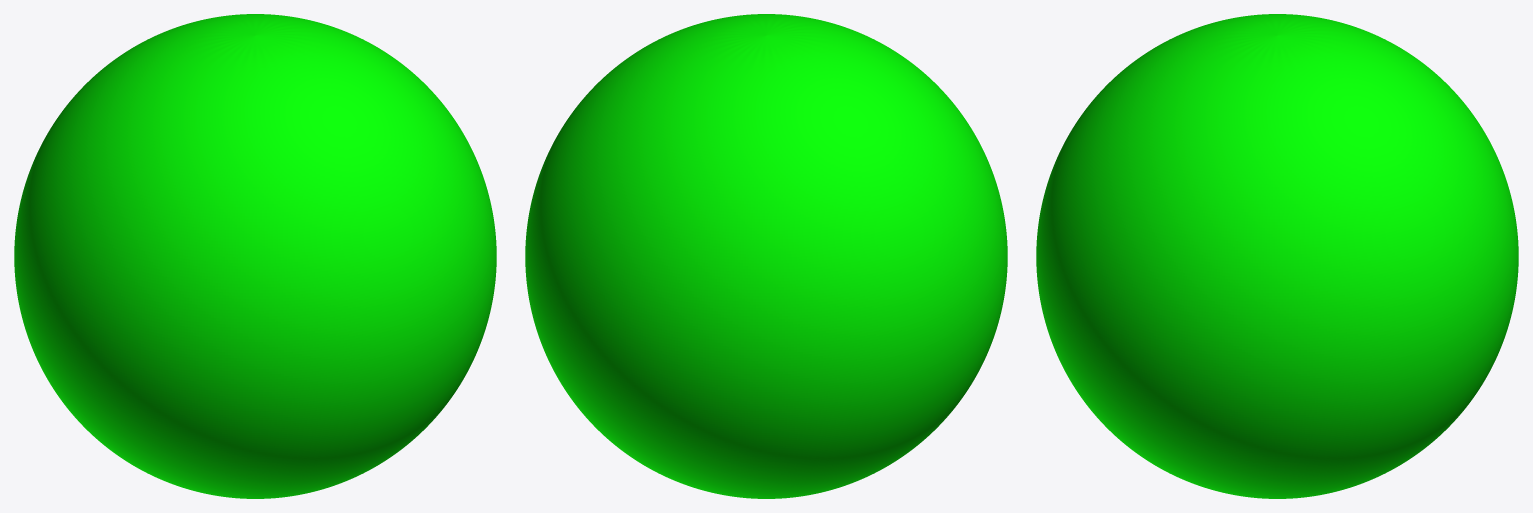
Rendered from Enemy 2.fbx.
3 views of the same model, side by side, from view 1: azimuth 30°, elevation 25°; view 2: azimuth 150°, elevation 25°; view 3: azimuth 270°, elevation 25° (orthographic).
Visible parts, largest first — view 1: Enemy2; view 2: Enemy2; view 3: Enemy2.
Boxes of the visible parts, x1=… form: Enemy2: x1=14, y1=14, x2=496, y2=498; Enemy2: x1=525, y1=14, x2=1007, y2=498; Enemy2: x1=1036, y1=14, x2=1518, y2=498.
Bounding box in the file's own units: 197 × 200 × 197.
